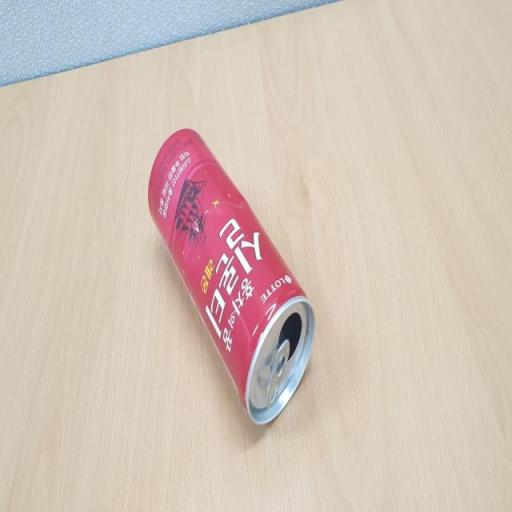metal: (138, 116, 324, 442)
